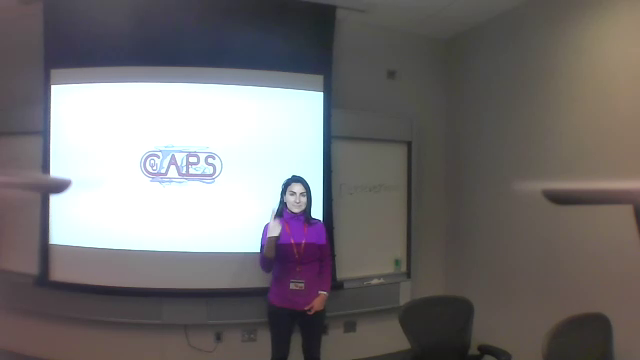up: (262, 205, 282, 238)
